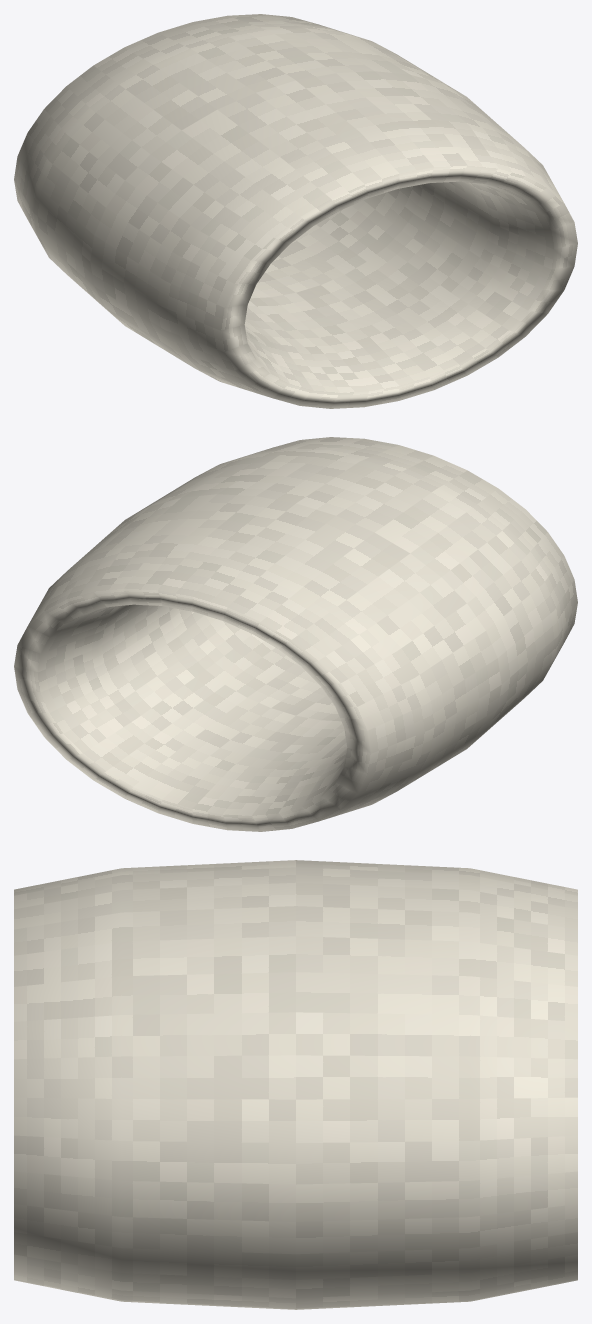
Rendered from collar.glb.
The picture shows the model from 3 angles, top to bottom: view 1: azimuth 30°, elevation 25°; view 2: azimuth 150°, elevation 25°; view 3: azimuth 270°, elevation 25°; orthographic projection. The views are drawn at different scales.
Parts seen in each view (by area): view 1: loop; view 2: loop; view 3: loop.
Boxes of the visible parts, bbox=[...] form: loop: bbox=[14, 14, 577, 408]; loop: bbox=[14, 437, 577, 831]; loop: bbox=[14, 860, 577, 1309].
Size of the model in its own units: 0.23 by 0.14 by 0.2.
1 material, 1 textured.
